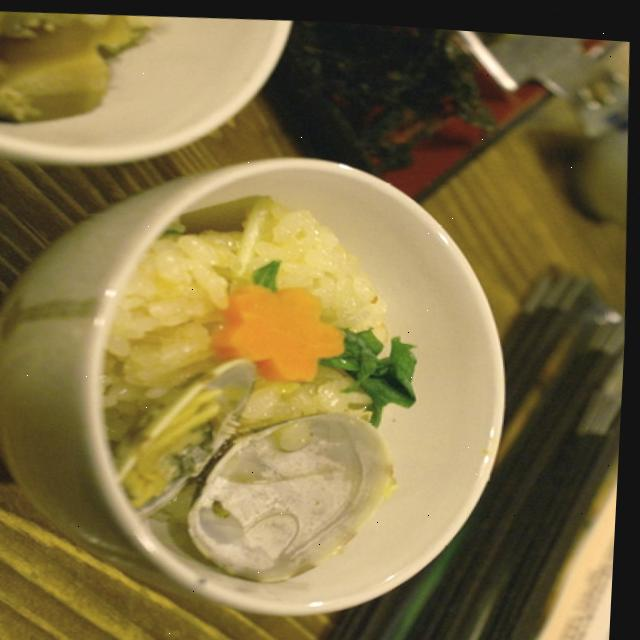蔬菜料理: (24, 52, 634, 640)
